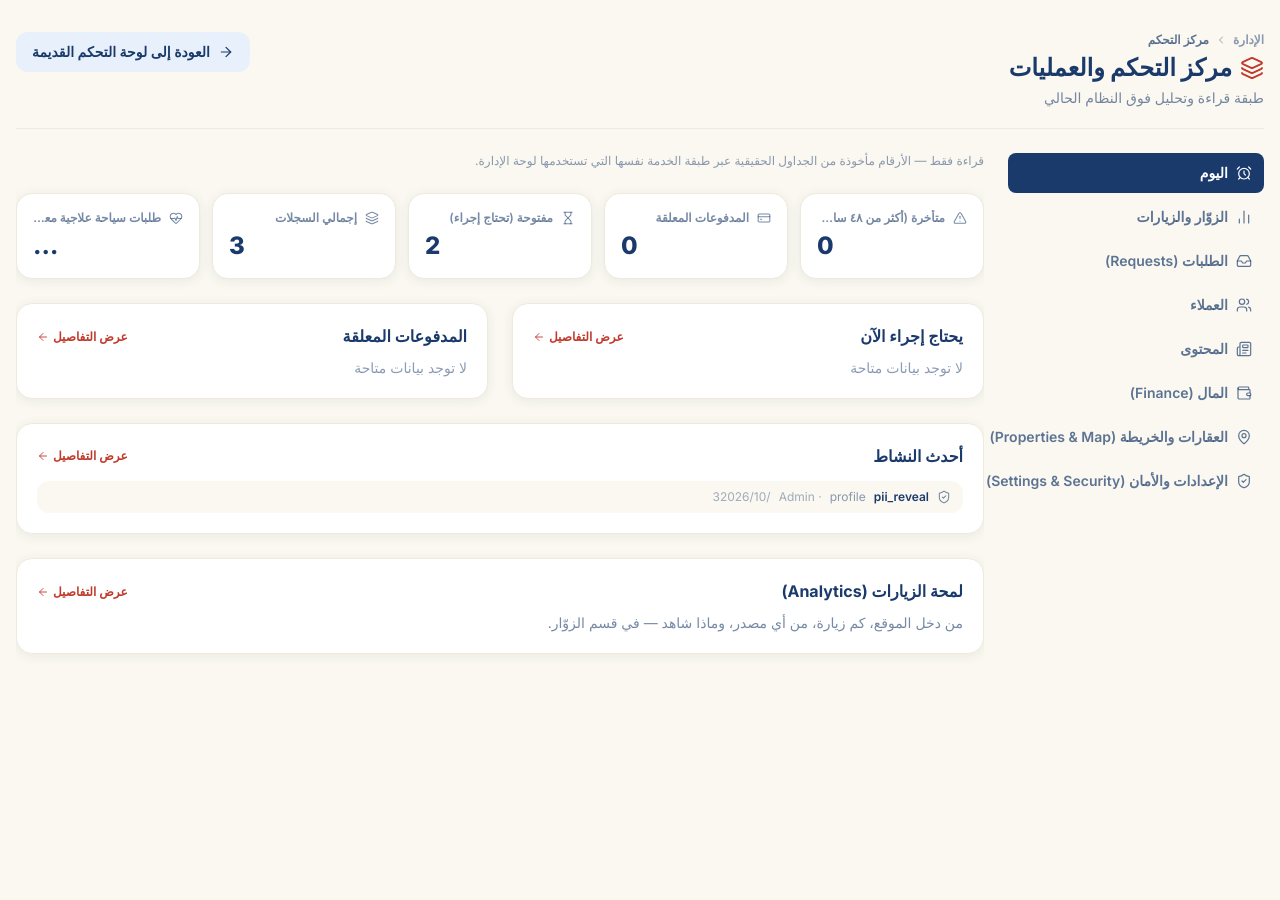
Test case: Control Center navigation › navigates to content via its sidebar button
This screenshot has width=1280, height=900.
Click the button "المحتوى" at [1136, 349], box [1008,329,1264,369]
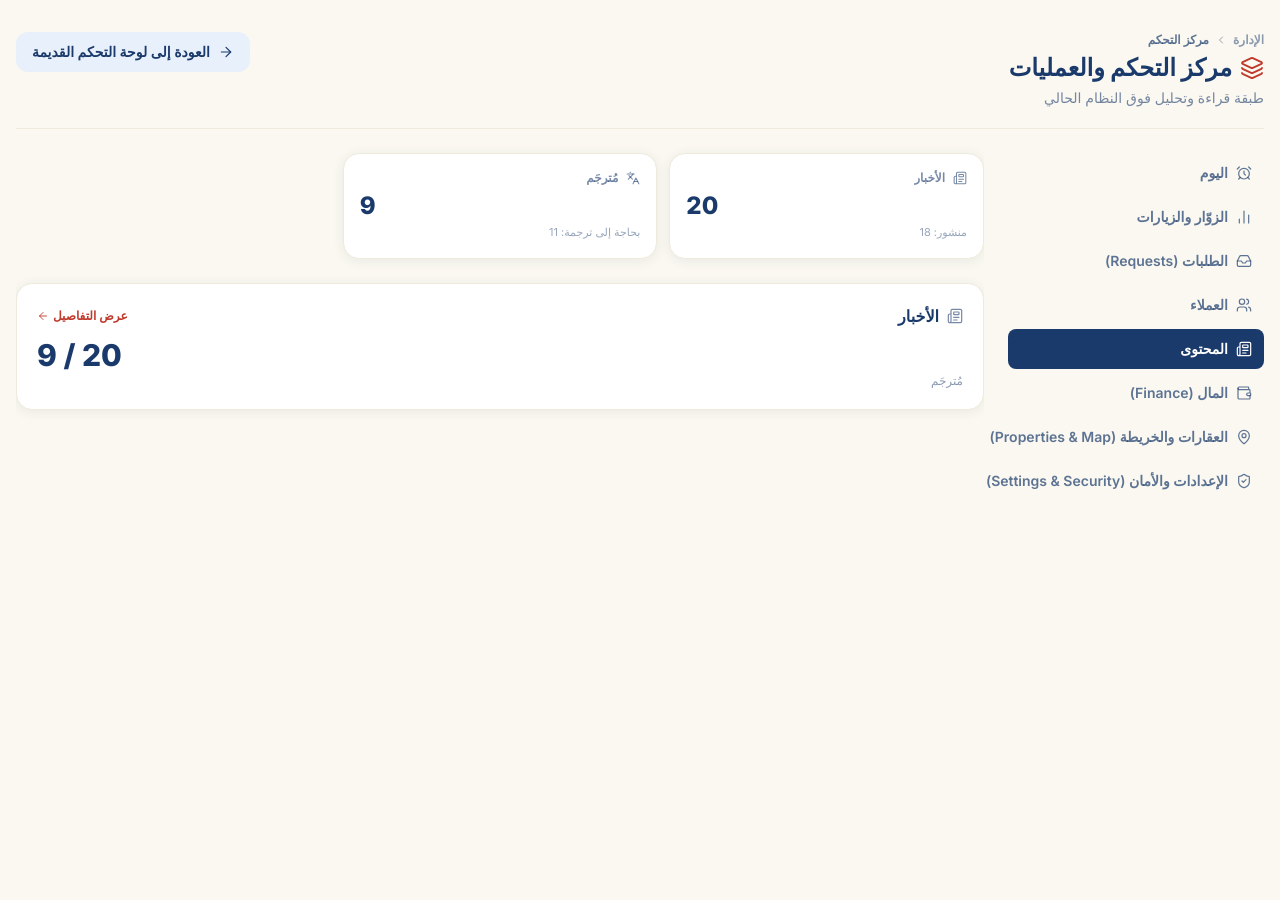
expect the text "الأخبار" is shown: met, box [914,170,945,186]
